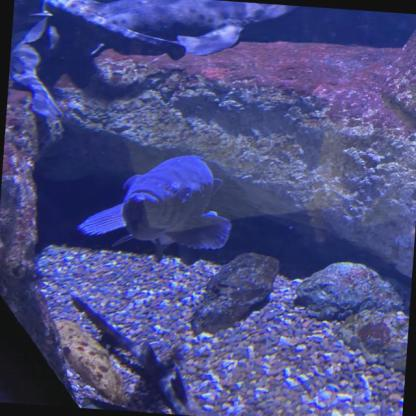fish: (76, 146, 234, 264)
shark: (6, 0, 300, 135)
